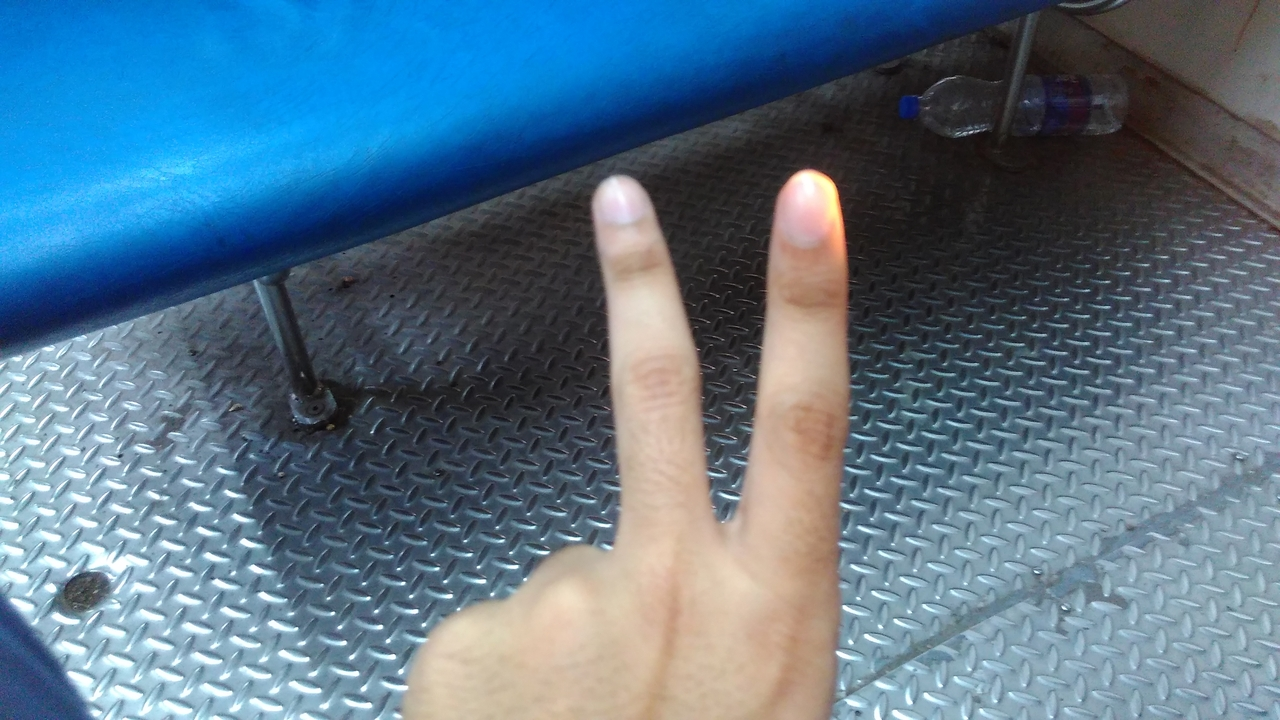fingertip: (774, 162, 848, 240), (586, 172, 658, 242)
